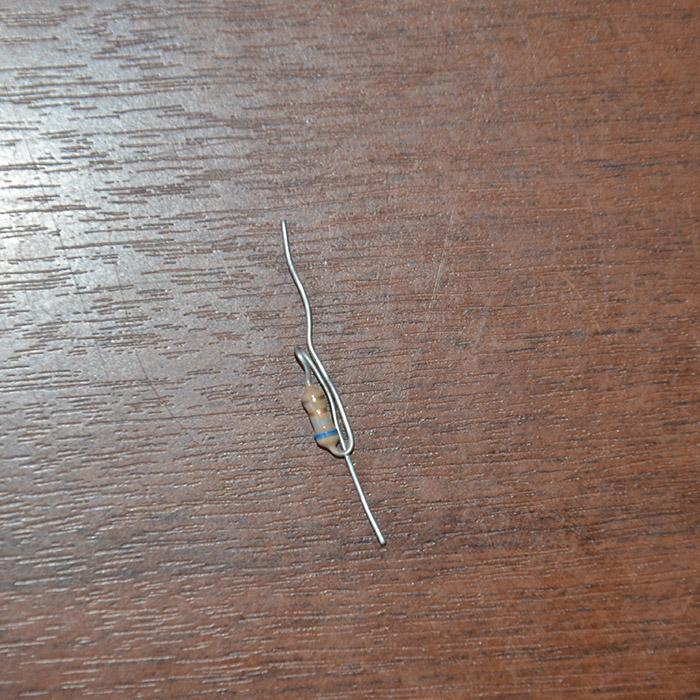resistor: (300, 379, 344, 453)
